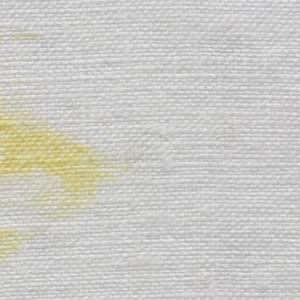Stain: (1, 97, 125, 270), (1, 21, 49, 54)
